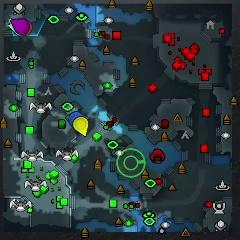p1: (69, 112, 89, 125)
p2: (8, 24, 20, 36)
p3: (10, 18, 29, 35)
p4: (74, 117, 88, 137)
p5: (25, 21, 33, 36)
